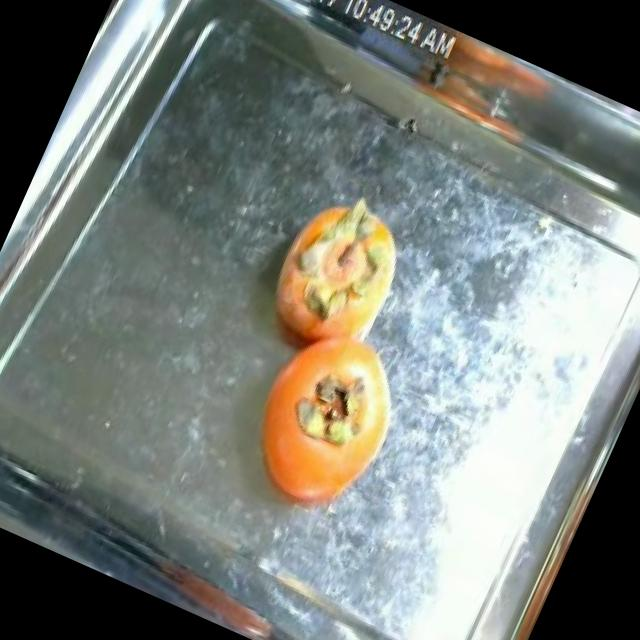Fruit: (245, 165, 439, 372)
